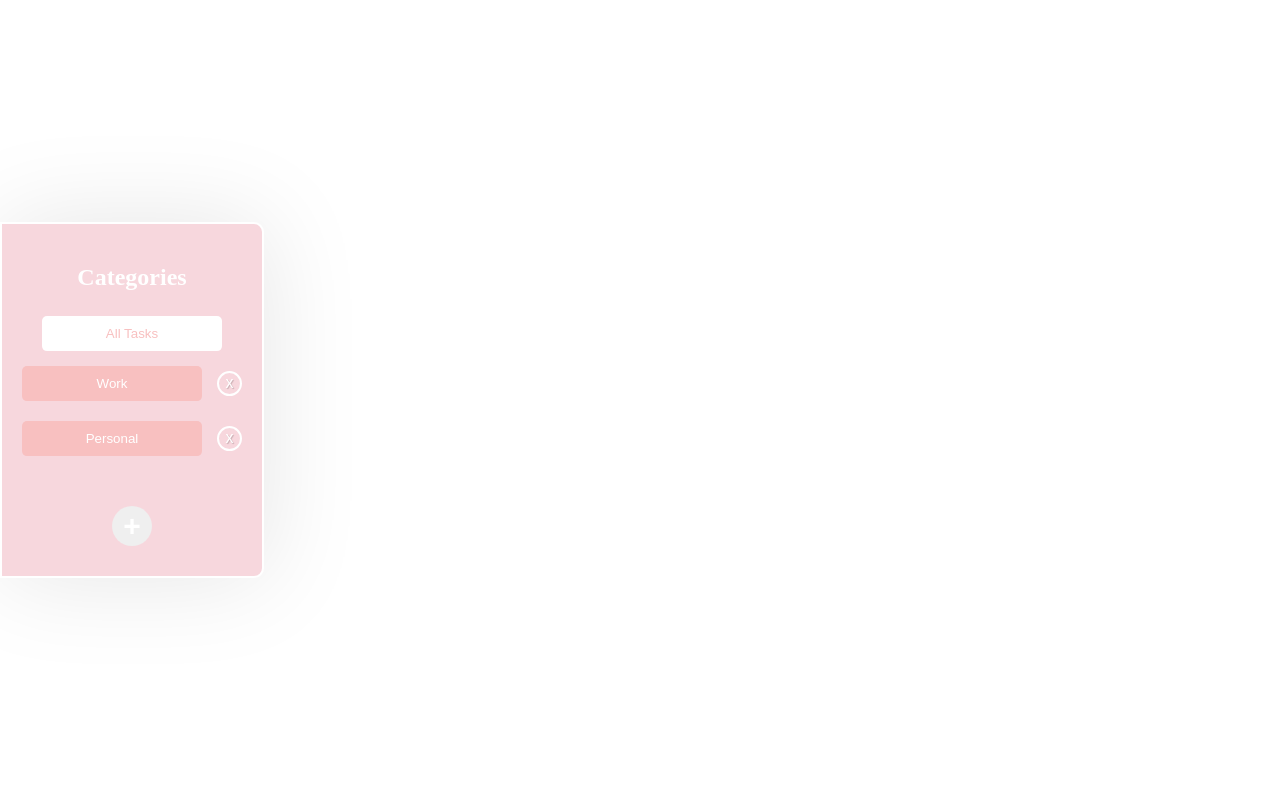
Scenario: CategorySidenav Component › handles empty category name input
Click the button with test id "add-category-button" at x=132, y=526, box [112, 506, 152, 546]
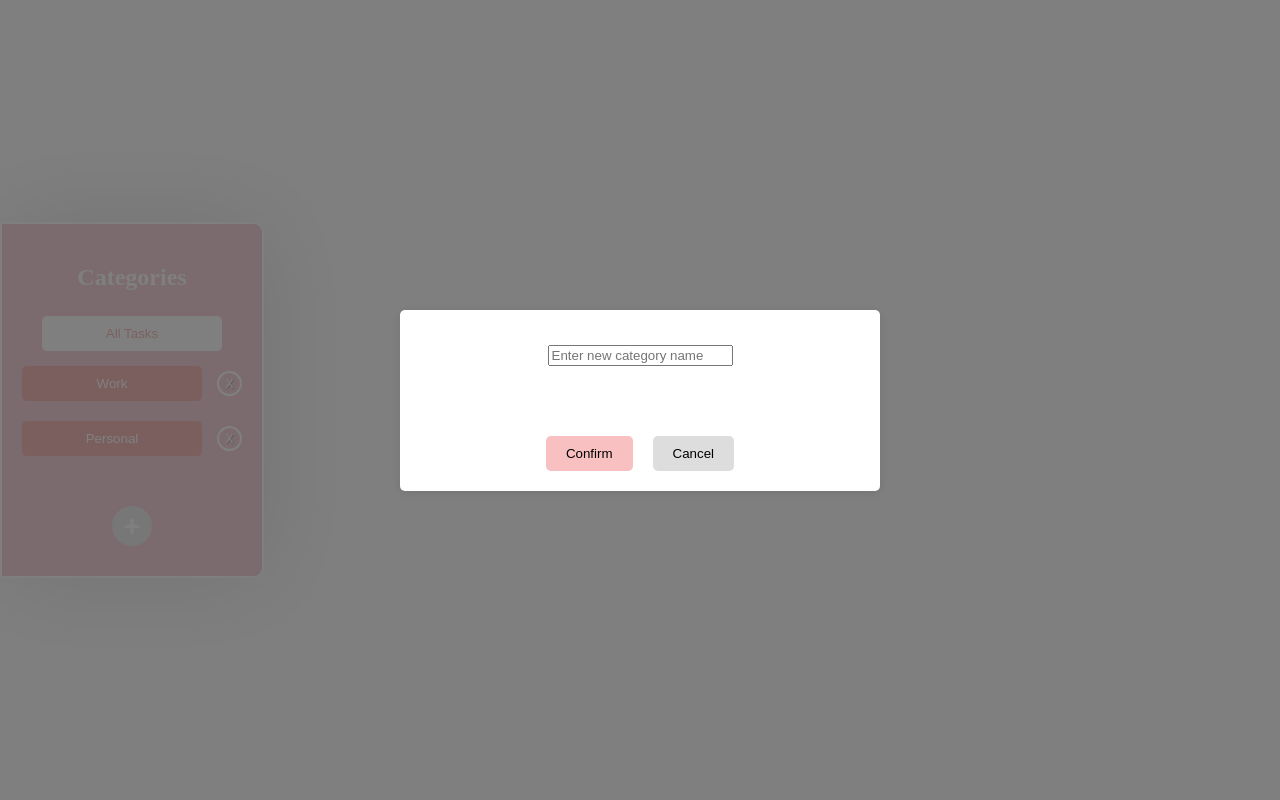
Click the button "Confirm" at x=589, y=453, box [546, 436, 633, 470]
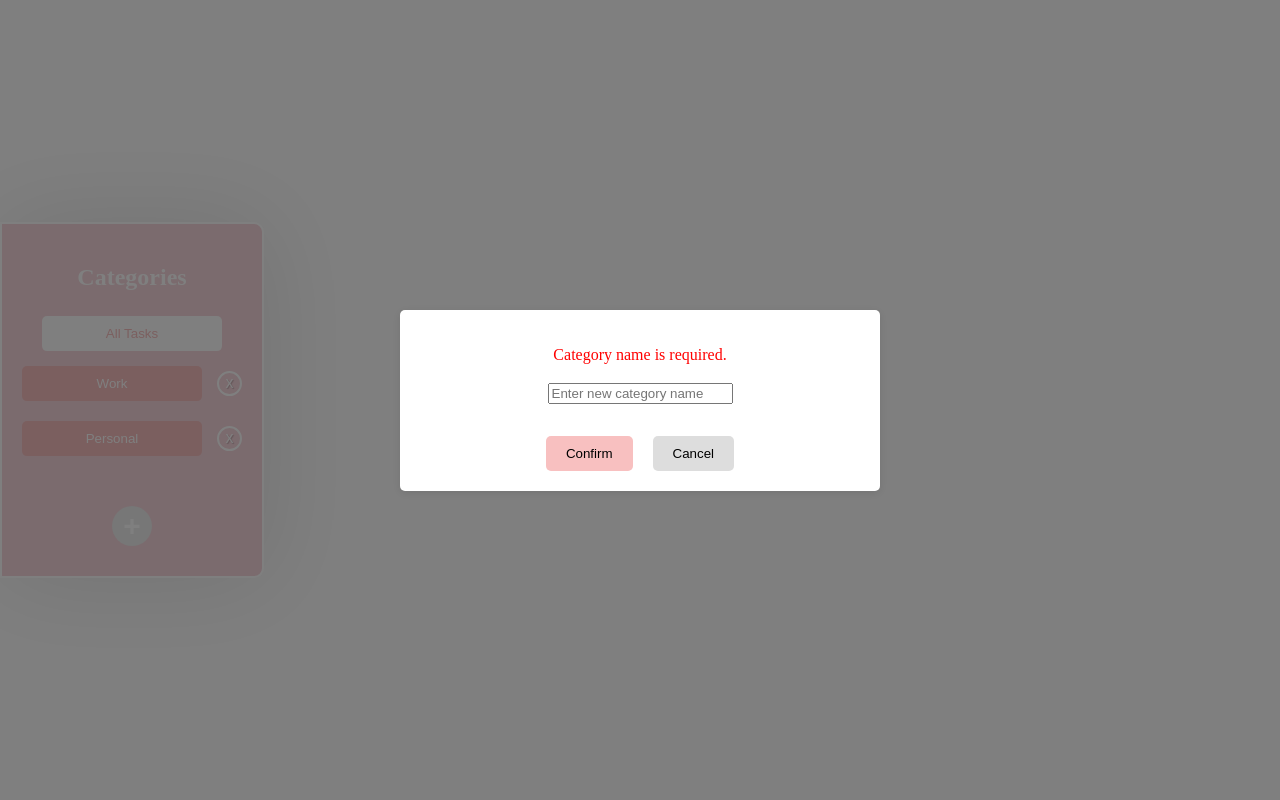
Expected: the text "Category name is required." is shown, [553, 346, 727, 362]
